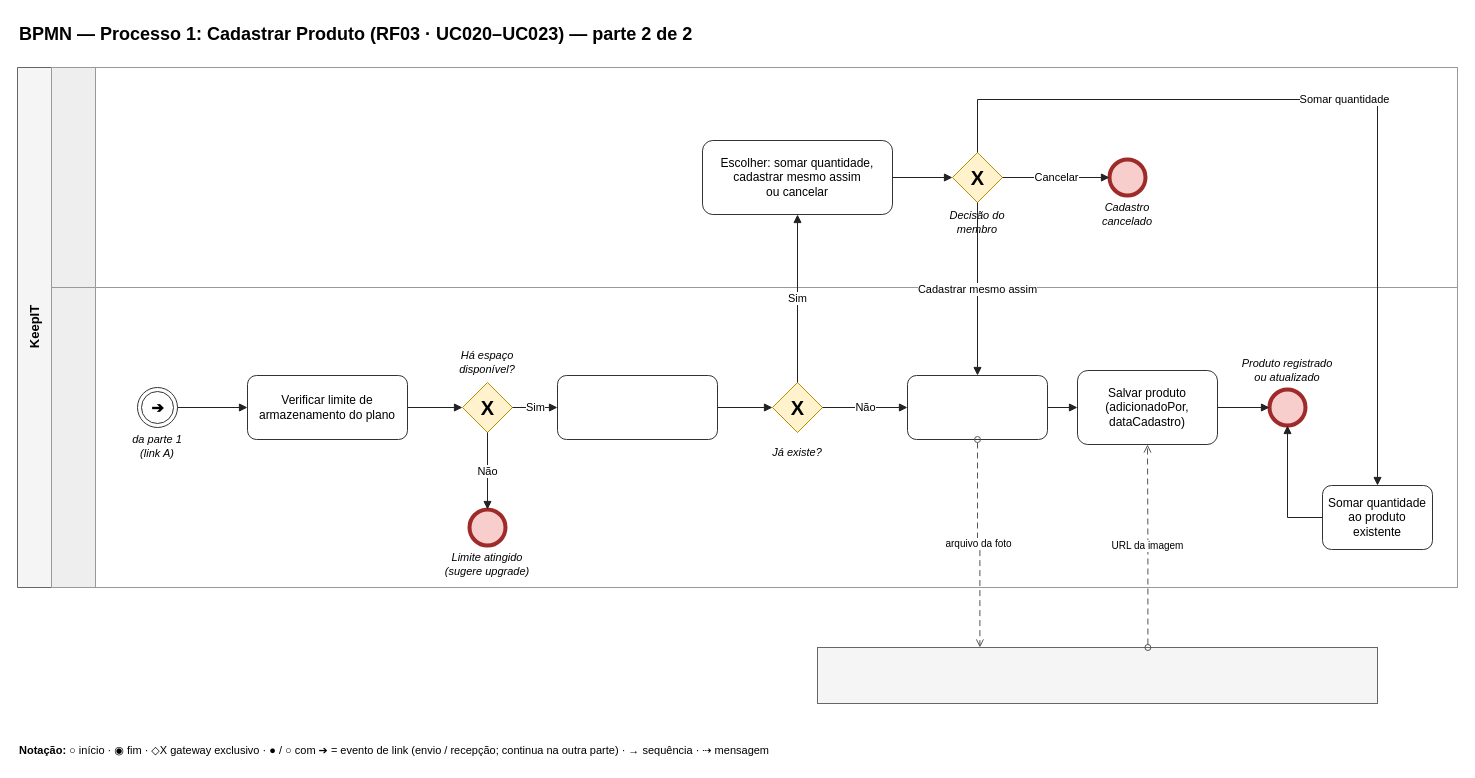
The diagram is 1475 pixels wide and 778 high, and some of its shapes have lost their labels. Here are the shapes that lost their labels. From the top down, the box of each, then its label:
(50, 66, 1458, 288): Membro da Casa
(556, 374, 718, 440): Verificar duplicidade (mesmo nome na Casa)
(906, 374, 1048, 440): Enviar foto ao armazenamento
(50, 286, 1458, 588): Sistema KeepIT
(816, 646, 1378, 704): Armazenamento de Imagens (object storage)
